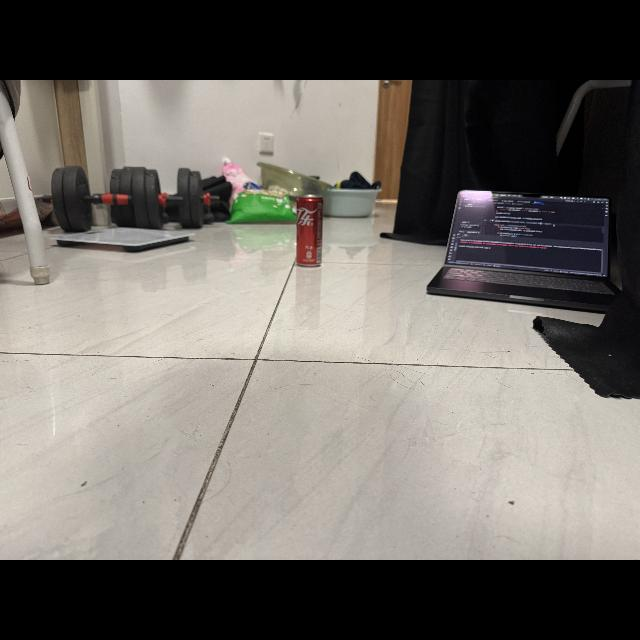Cola: (290, 188, 332, 274)
